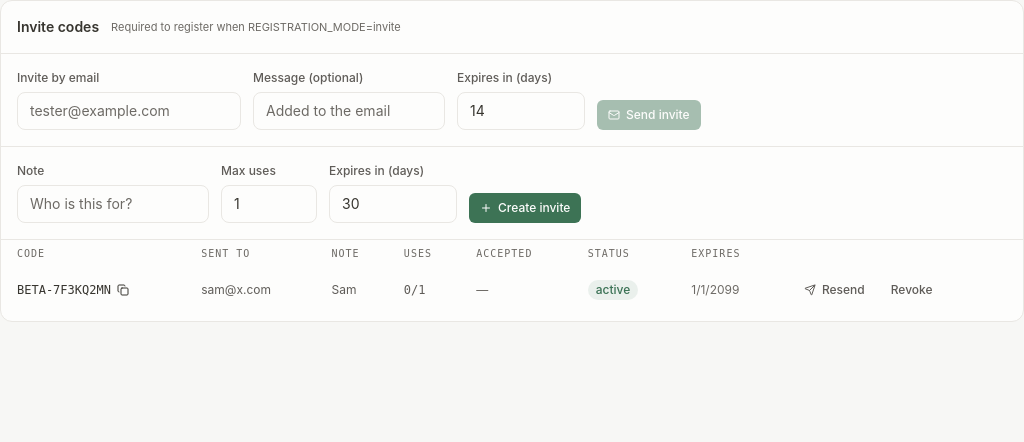
InvitePanel resend › sends the invite id and shows the reissued link
Step 1. Click the button "Resend" → point(834, 290), box x1=793 y1=275 x2=876 y2=305
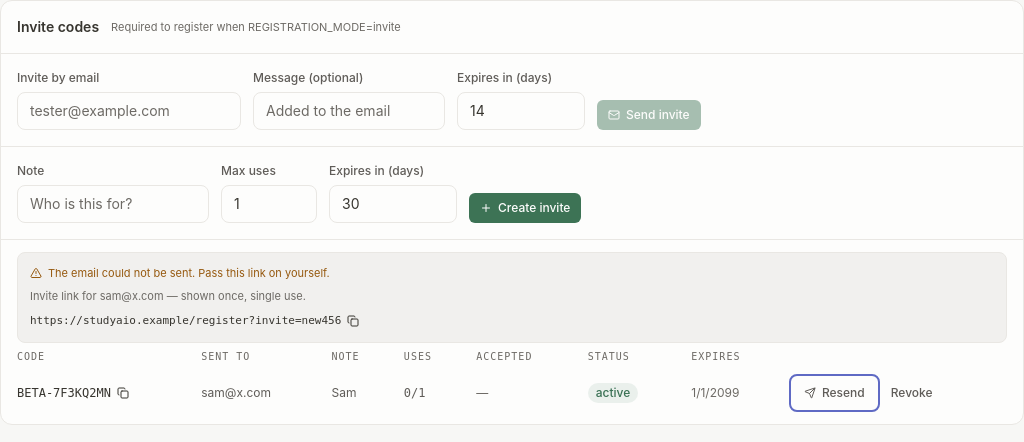
expect the text "https://studyaio.example/register?invite=new456" is shown: met, box x1=30 y1=313 x2=341 y2=330
